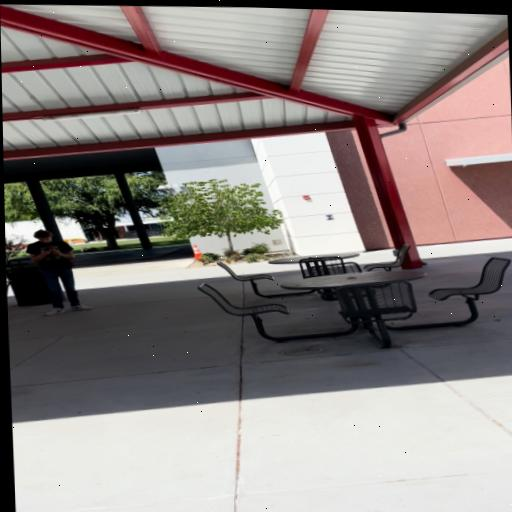target2: (324, 214, 335, 220)
